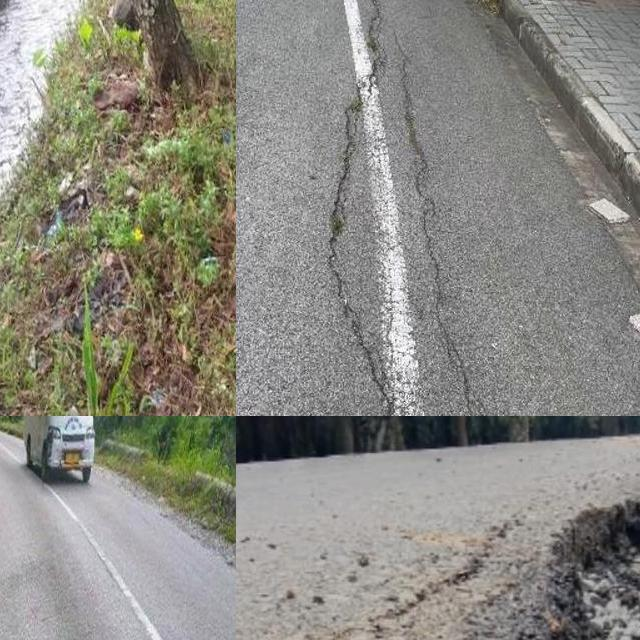Memanjang: (303, 2, 414, 416), (394, 60, 508, 416)
Pinggir: (459, 429, 640, 640)
